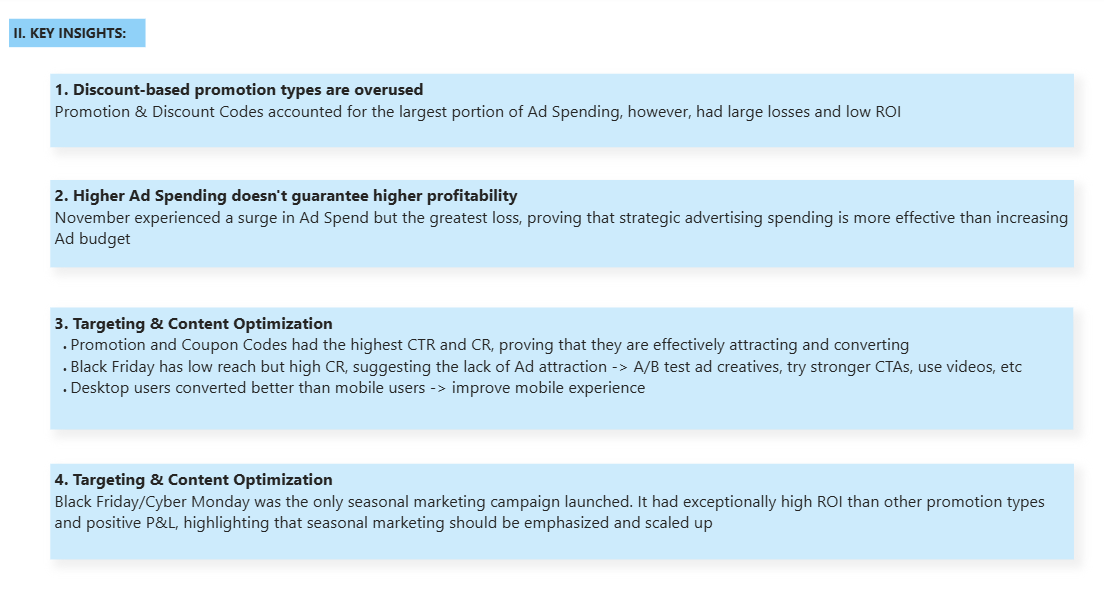

Layout of this report page (visuals, bound fields, positions):
{"tool":"powerbi","page":{"name":"Key Takeout","canvas":[1280,720],"ordinal":7},"visuals":[{"type":"textbox","box":[11.5,27.4,157.3,33.2],"z":0},{"type":"textbox","box":[58.7,541.7,1181.3,110.1],"z":1000},{"type":"textbox","box":[58.6,214.1,1181.8,101],"z":2000},{"type":"textbox","box":[58.9,360,1181.1,141.1],"z":3000},{"type":"textbox","box":[58.6,90.9,1181.8,84.8],"z":4000}]}

Visuals, with their boxes in screenshot pixels (x1, y1, x2, y2), scaled from the page's 1280x720 canvas onto the 1104x613 screenshot:
textbox: [10,23,146,52]
textbox: [51,461,1070,555]
textbox: [51,182,1070,268]
textbox: [51,306,1070,427]
textbox: [51,77,1070,150]
